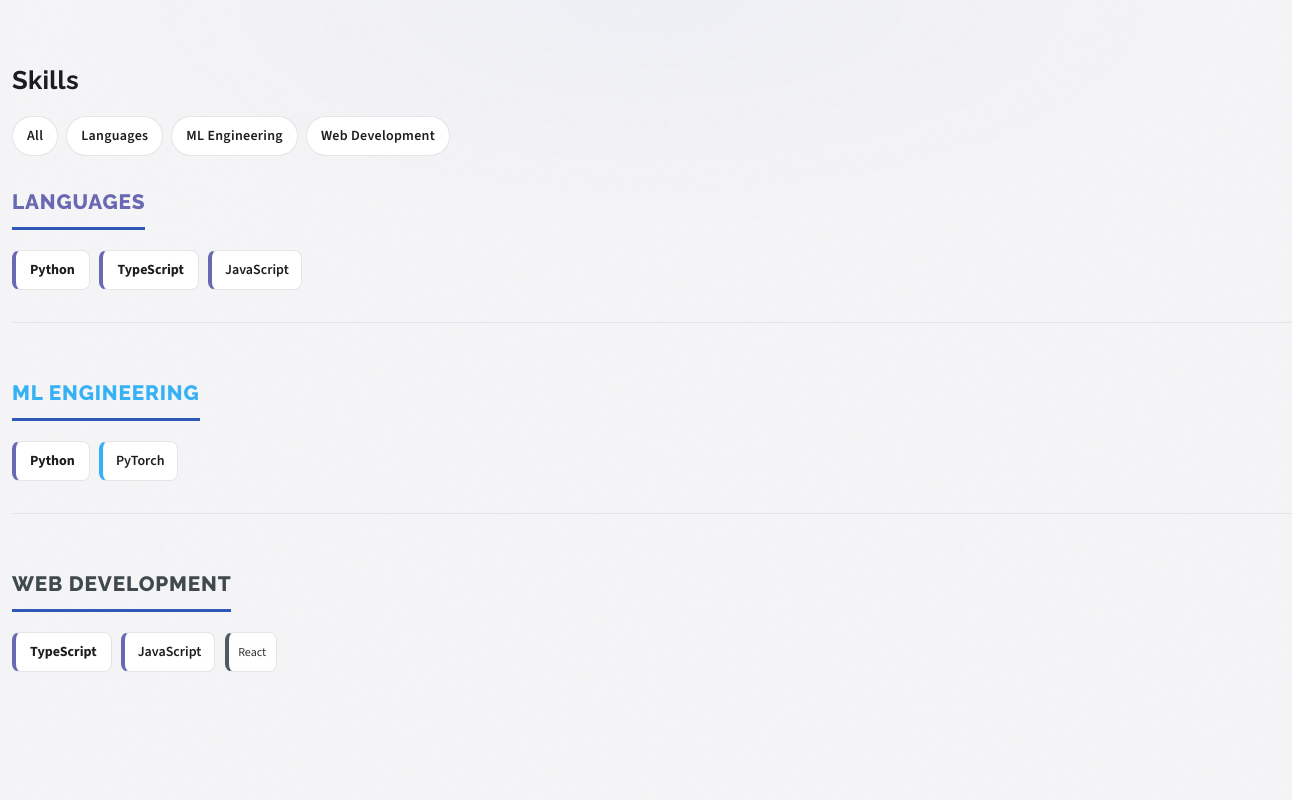
Test case: Skills › filters skills when category button is clicked
Click the button "ML Engineering" at x=235, y=136, box [171,116,298,156]
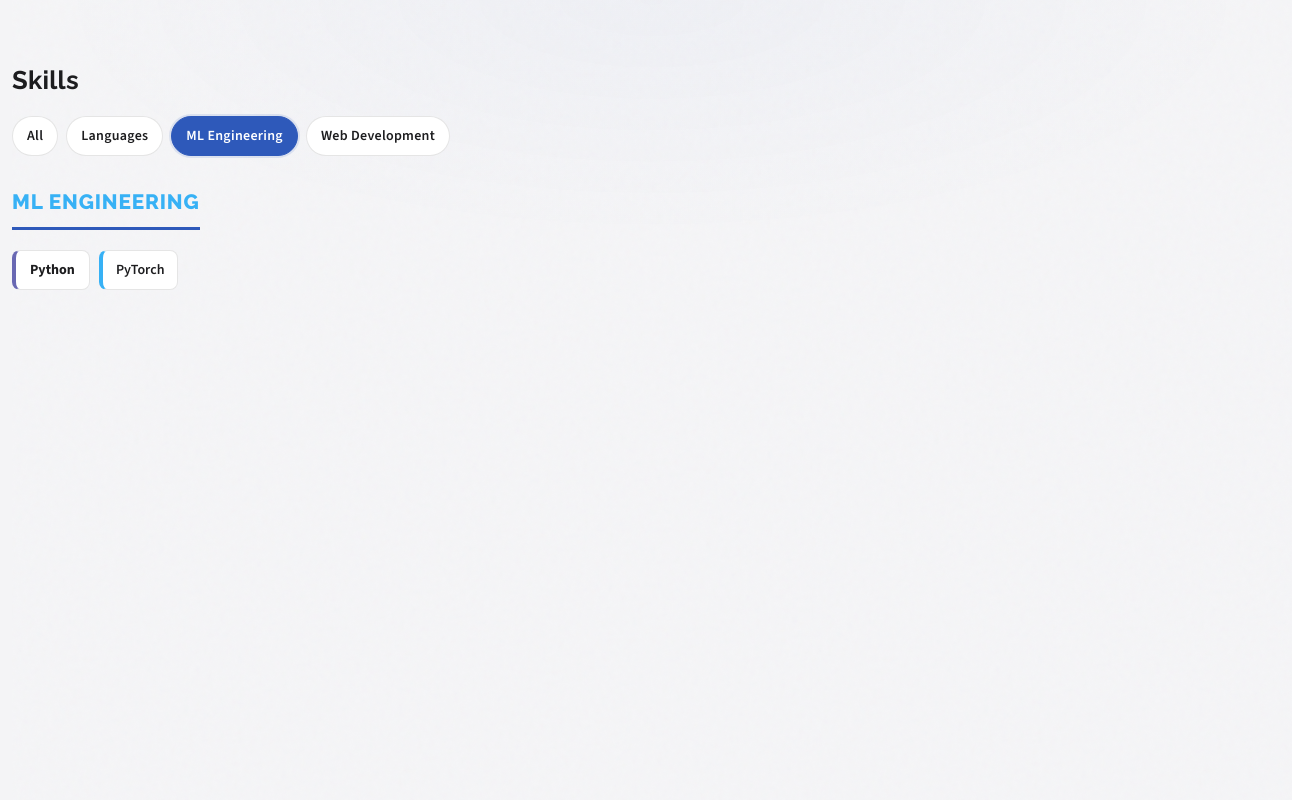
Expected: the text "Python" is shown, [30,258,75,282]
Expected: the text "React" is gone
